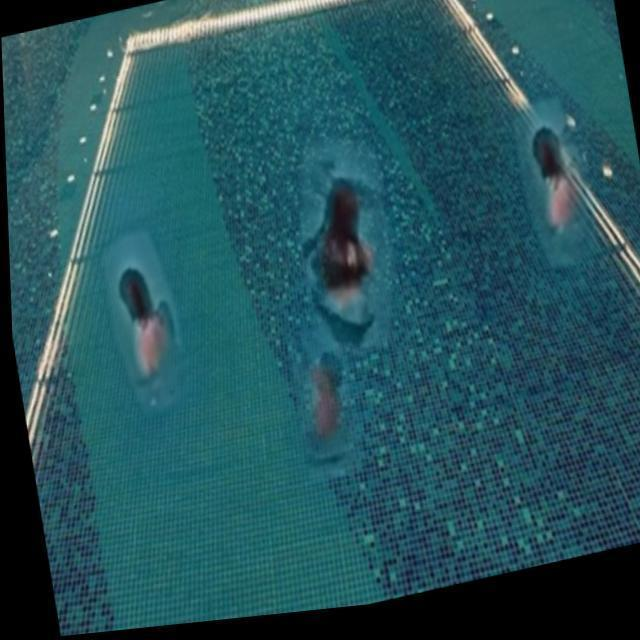swimming: (300, 178, 375, 333), (98, 262, 188, 391), (518, 117, 593, 248), (288, 350, 367, 459)
